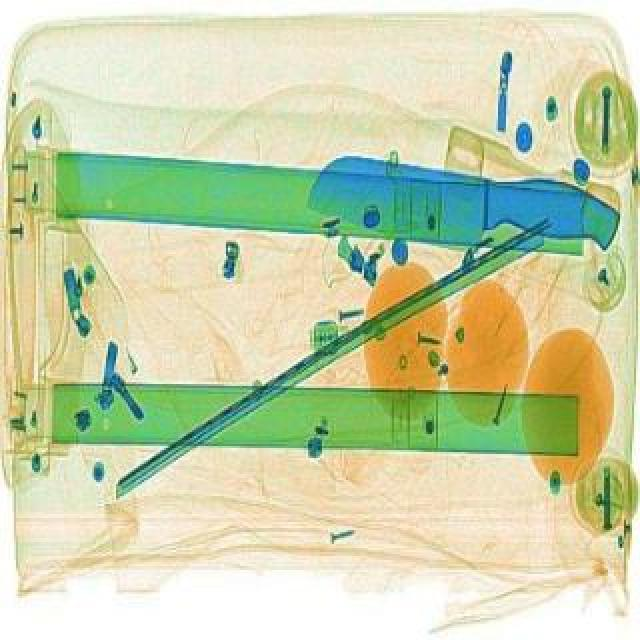knife: (302, 146, 624, 262)
